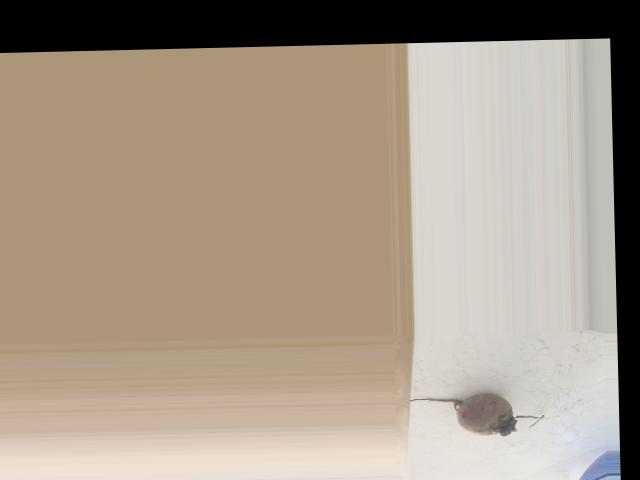beet: (405, 392, 544, 437)
